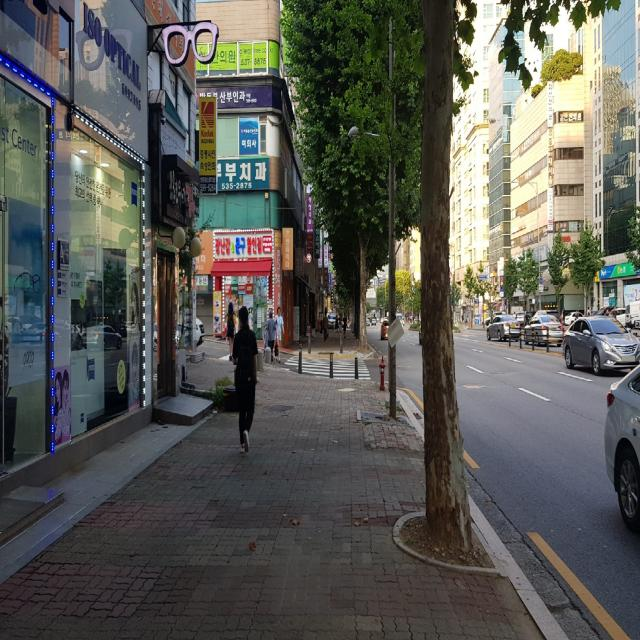횡단보도: (280, 355, 371, 381)
